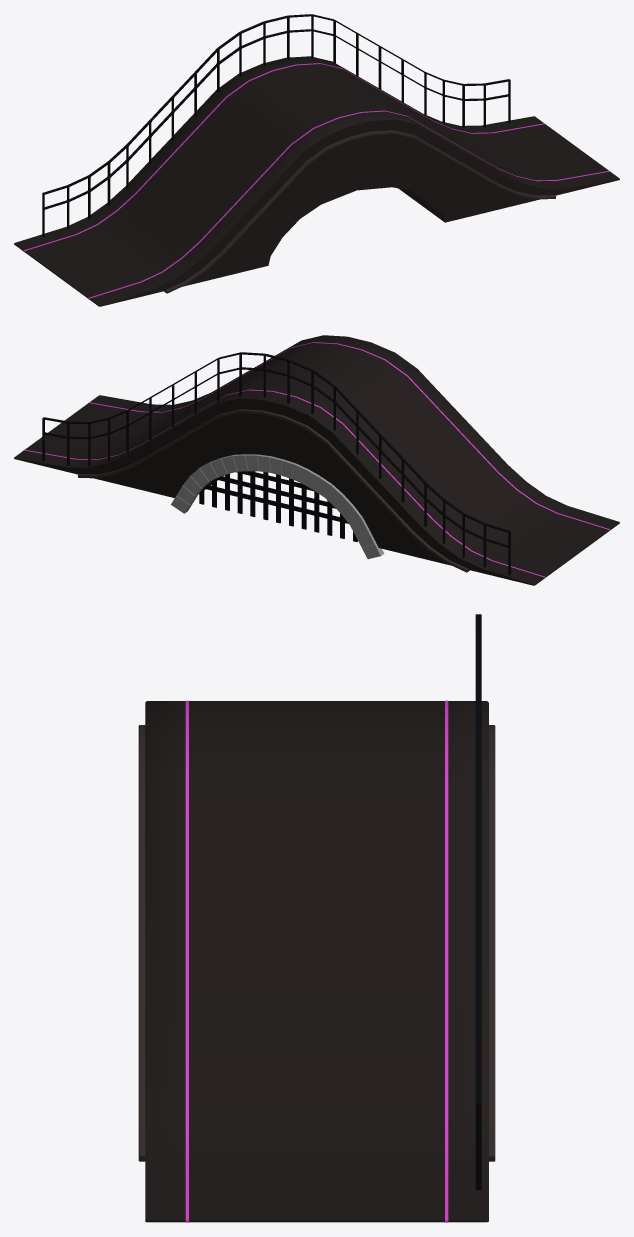
File: W_O_Playground_Hill_L0.fbx
3 renders of one model, top to bottom at view 1: azimuth 30°, elevation 25°; view 2: azimuth 150°, elevation 25°; view 3: azimuth 270°, elevation 25°, orthographic. The views are drawn at different scales.
Parts seen in each view (by area): view 1: W_O_Playground_Hill_L0; view 2: W_O_Playground_Hill_L0; view 3: W_O_Playground_Hill_L0.
Boxes of the visible parts, x1=… form: W_O_Playground_Hill_L0: x1=14, y1=14, x2=619, y2=306; W_O_Playground_Hill_L0: x1=14, y1=335, x2=619, y2=585; W_O_Playground_Hill_L0: x1=138, y1=614, x2=495, y2=1222.
Bounding box in the file's own units: 7.01 × 2.26 × 2.08.
